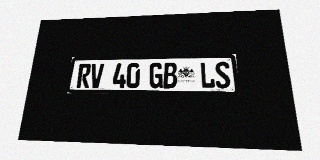0: (126, 63, 140, 88)
4: (112, 63, 127, 88)
B: (163, 62, 177, 88)
G: (149, 63, 163, 88)
L: (200, 62, 215, 88)
R: (76, 64, 91, 88)
S: (214, 62, 231, 88)
V: (89, 63, 104, 88)
